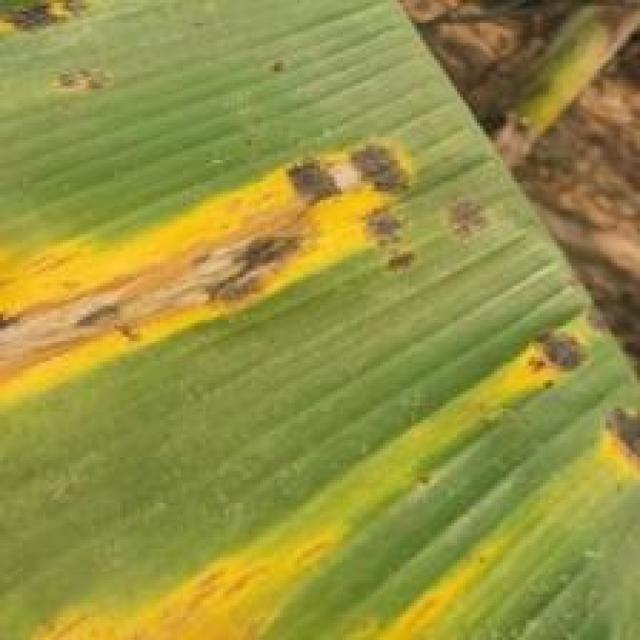Downey_mildrew: (4, 329, 640, 639), (0, 128, 505, 423), (41, 51, 141, 101)
